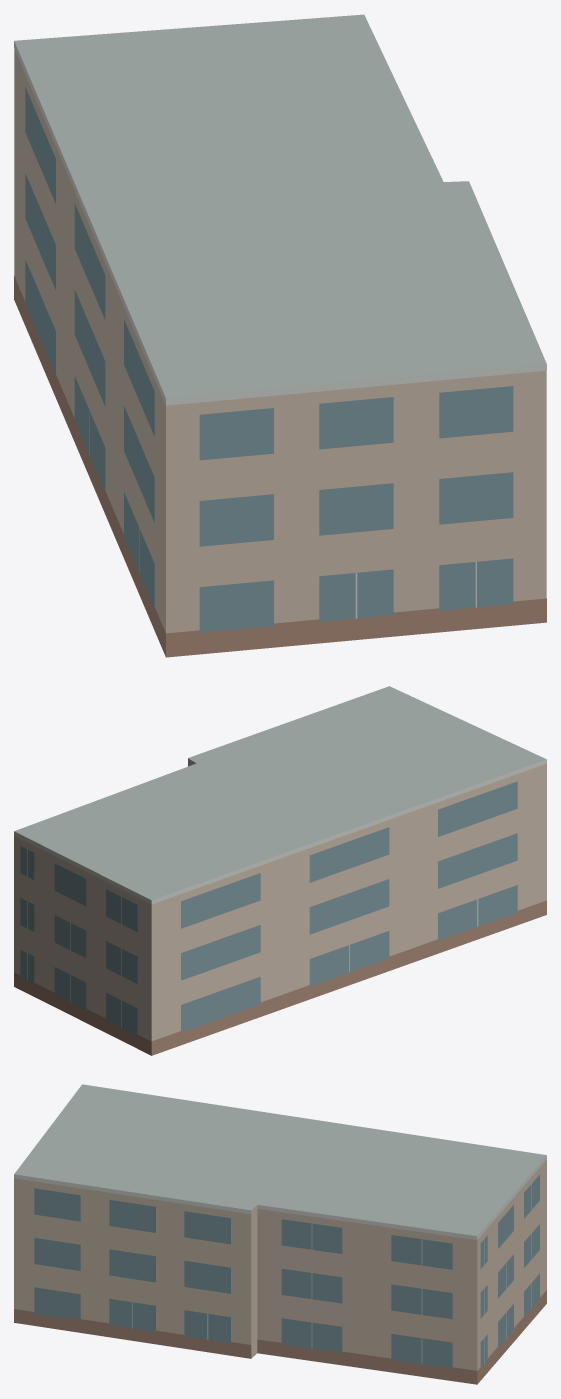
Rendered from survey-upis-32642463.glb.
The picture shows the model from 3 angles, top to bottom: view 1: azimuth 30°, elevation 25°; view 2: azimuth 150°, elevation 25°; view 3: azimuth 270°, elevation 25°; orthographic projection. The views are drawn at different scales.
Visible parts, largest first — view 1: survey-upis-32642463.tmp; view 2: survey-upis-32642463.tmp; view 3: survey-upis-32642463.tmp.
Boxes of the visible parts, x1,y1,x2,y2 form: survey-upis-32642463.tmp: (14,14,546,657); survey-upis-32642463.tmp: (14,686,546,1055); survey-upis-32642463.tmp: (14,1084,546,1384).
Bounding box in the file's own units: 20.09 × 9.15 × 29.77.
